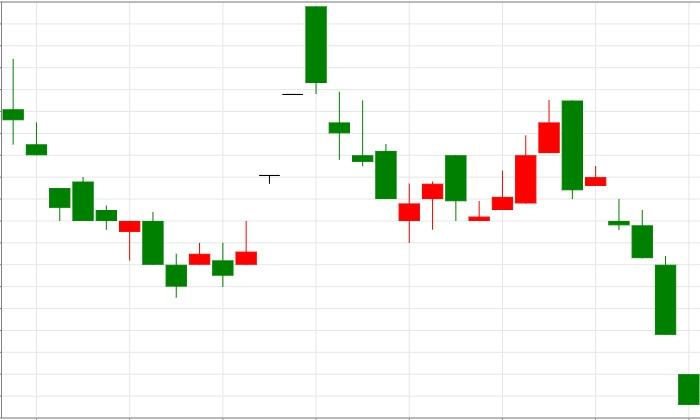bearish_engulfing_fall: (468, 100, 584, 222)
